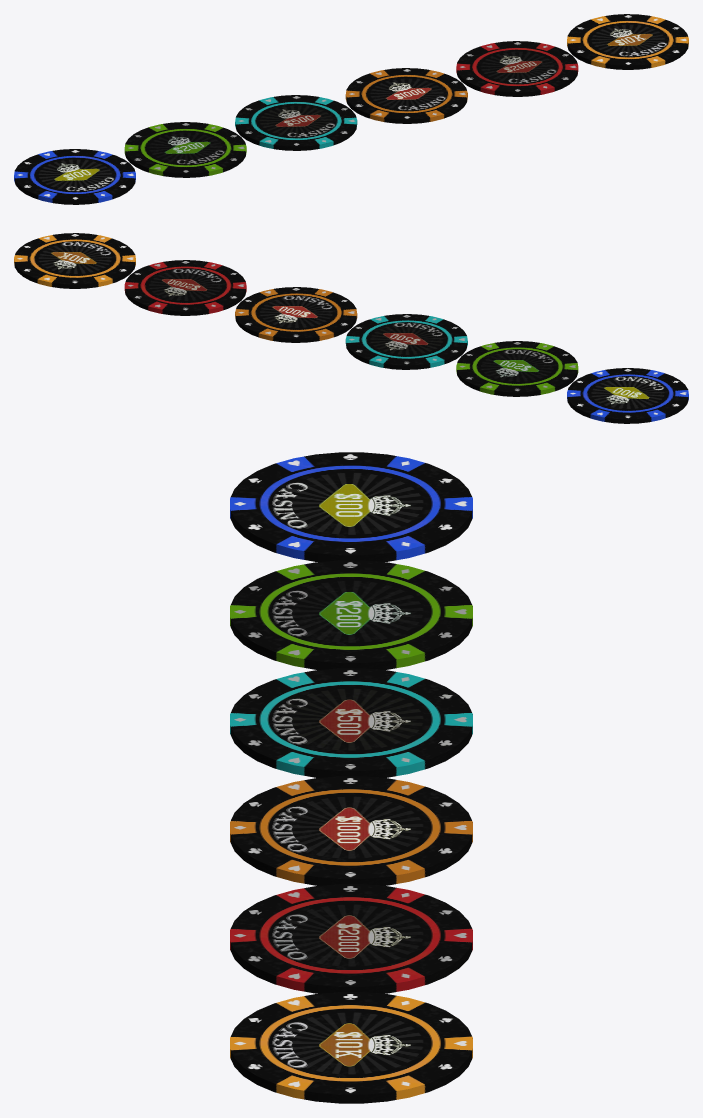
Rendered from poker-chips.glb.
The picture shows the model from 3 angles, top to bottom: view 1: azimuth 30°, elevation 25°; view 2: azimuth 150°, elevation 25°; view 3: azimuth 270°, elevation 25°; orthographic projection. The views are drawn at different scales.
Visible parts, largest first — view 1: Poker_chip_200_2, Poker_Chip_2000_5, Poker_Chip_500_3, Poker_Chip_1000_4, Poker_Chip_10k_0, Poker_Chip_100_1; view 2: Poker_chip_200_2, Poker_Chip_2000_5, Poker_Chip_500_3, Poker_Chip_1000_4, Poker_Chip_10k_0, Poker_Chip_100_1; view 3: Poker_Chip_10k_0, Poker_Chip_500_3, Poker_chip_200_2, Poker_Chip_100_1, Poker_Chip_1000_4, Poker_Chip_2000_5.
Part boxes in pixels (x1,y1,x2,y2): Poker_chip_200_2: (124,122,246,177); Poker_Chip_2000_5: (456,41,578,96); Poker_Chip_500_3: (235,95,357,150); Poker_Chip_1000_4: (345,68,467,123); Poker_Chip_10k_0: (567,14,688,69); Poker_Chip_100_1: (14,149,135,204); Poker_chip_200_2: (456,341,578,396); Poker_Chip_2000_5: (124,260,246,315); Poker_Chip_500_3: (345,314,467,369); Poker_Chip_1000_4: (235,287,357,342); Poker_Chip_10k_0: (14,233,135,288); Poker_Chip_100_1: (567,368,688,423); Poker_Chip_10k_0: (230,992,472,1103); Poker_Chip_500_3: (230,668,472,777); Poker_chip_200_2: (230,560,472,669); Poker_Chip_100_1: (230,452,472,561); Poker_Chip_1000_4: (230,776,472,885); Poker_Chip_2000_5: (230,884,472,993).
Bounding box in the file's own units: 0.2989 × 0.0019 × 0.0478.
6 materials, 6 textured.
